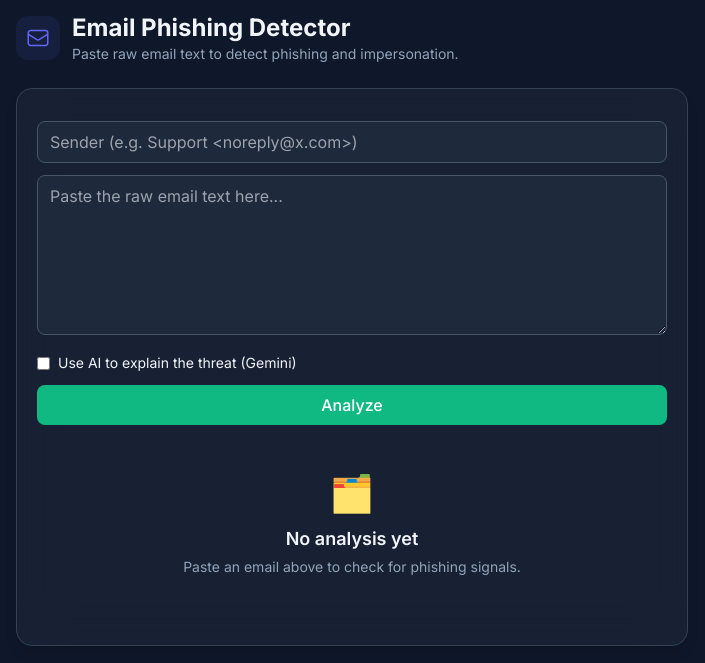
Test case: Email Phishing Detector › shows error state when analysis fails
This screenshot has width=705, height=663.
Type "Test email content" into the text box labelled "Paste the raw email text here..." at (352, 255), box 37,175 -> 667,335
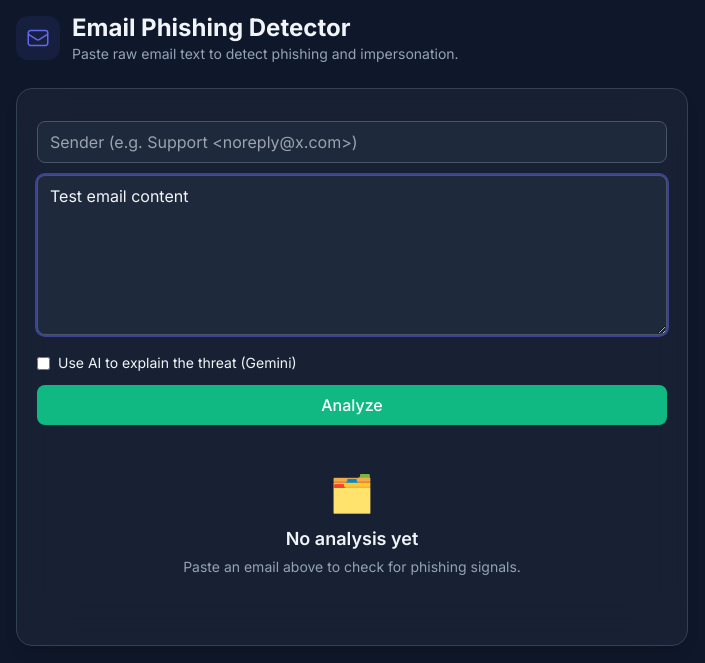
Click the button "Analyze" at (352, 405), box 37,385 -> 667,425
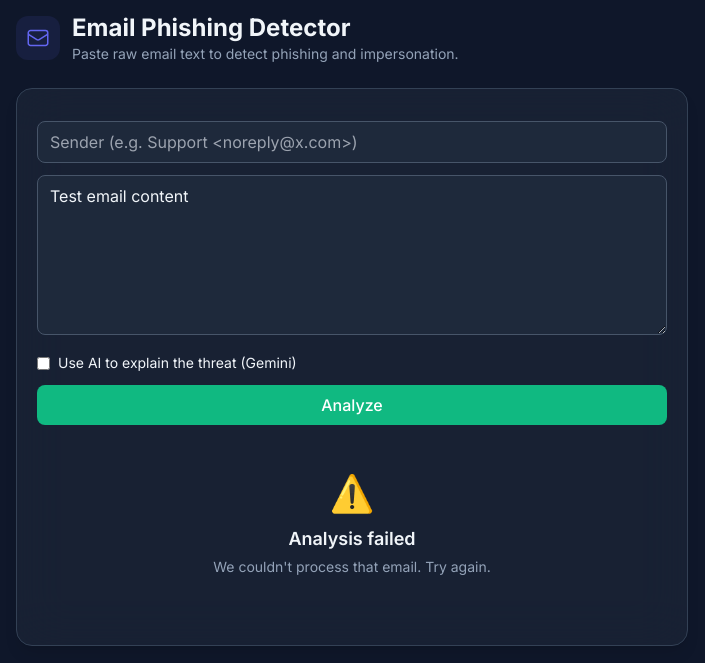
Check: the heading "Analysis failed" is shown, box 288,525 -> 416,553
